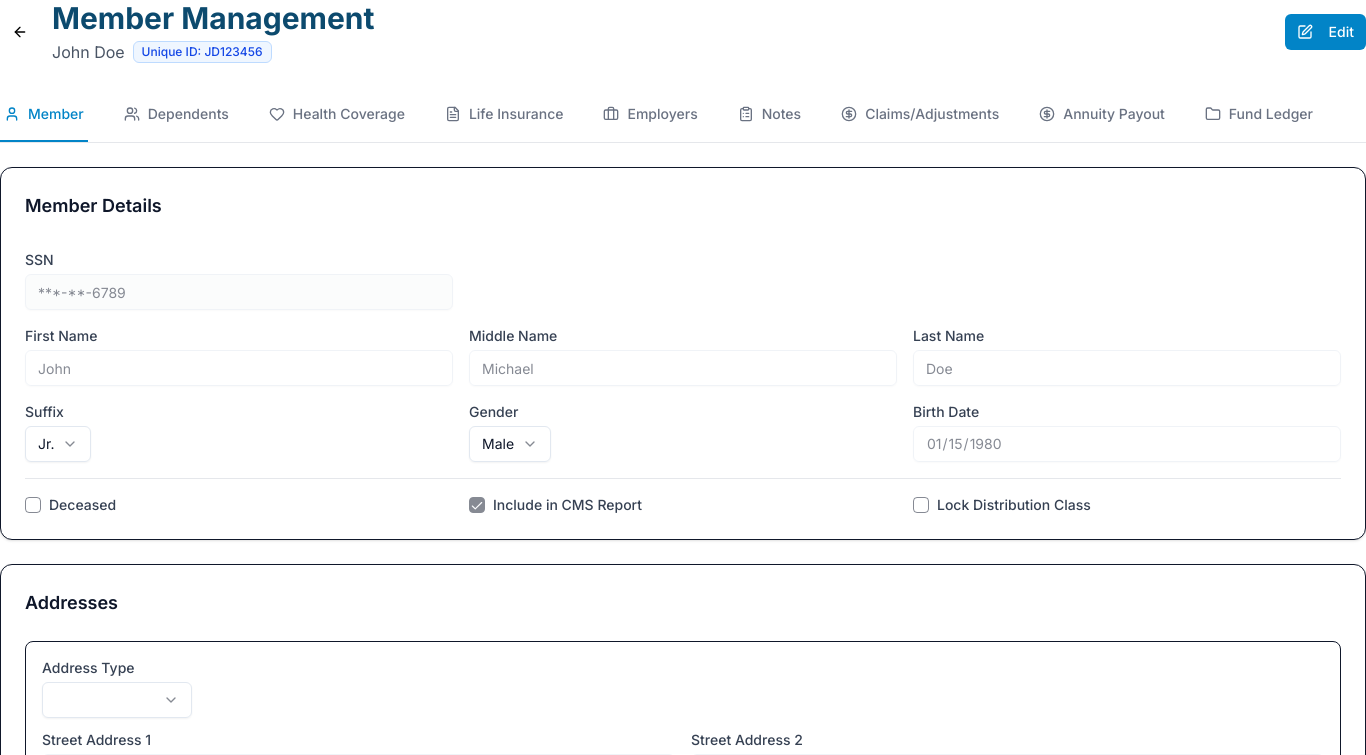
MemberDetailPage › Tab Navigation › should show fund balances in fund ledger tab
Note: Switch to fund ledger tab
Click the button "Fund Ledger". click: {"x": 1259, "y": 115}
box: x1=1201 y1=88 x2=1317 y2=142
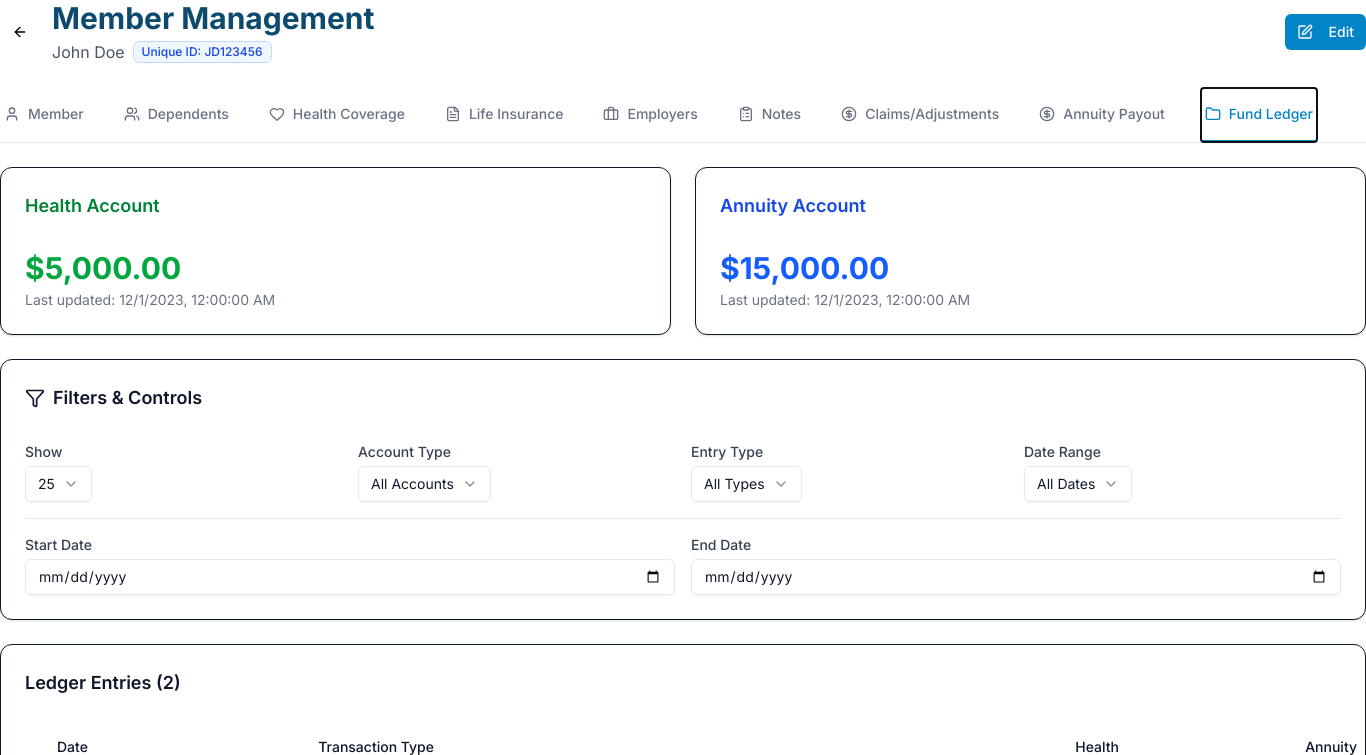
expect the text "$5,000.00" is shown: met, box x1=25 y1=250 x2=181 y2=286
expect the text "$15,000.00" is shown: met, box x1=720 y1=250 x2=889 y2=286
